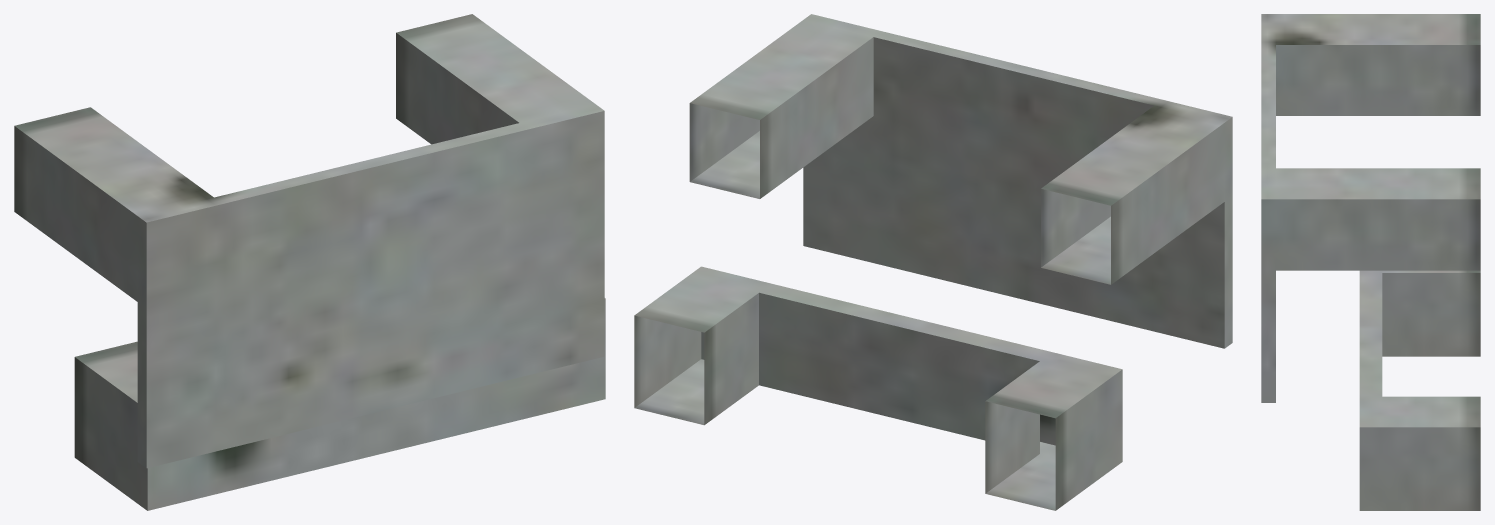
Rendered from Chair.fbx.
The picture shows the model from 3 angles, left to right: view 1: azimuth 30°, elevation 25°; view 2: azimuth 150°, elevation 25°; view 3: azimuth 270°, elevation 25°; orthographic projection. The views are drawn at different scales.
Visible parts, largest first — view 1: ID549, ID569; view 2: ID549, ID569; view 3: ID549, ID569.
Boxes of the visible parts, <box> form: ID549: <box>14,14,604,468</box>; ID569: <box>74,298,605,510</box>; ID549: <box>689,14,1232,348</box>; ID569: <box>634,266,1122,510</box>; ID549: <box>1261,14,1480,402</box>; ID569: <box>1359,270,1480,510</box>.
Bounding box in the file's own units: 81.49 × 52.04 × 36.
Materials: 1 (1 with a texture image).
